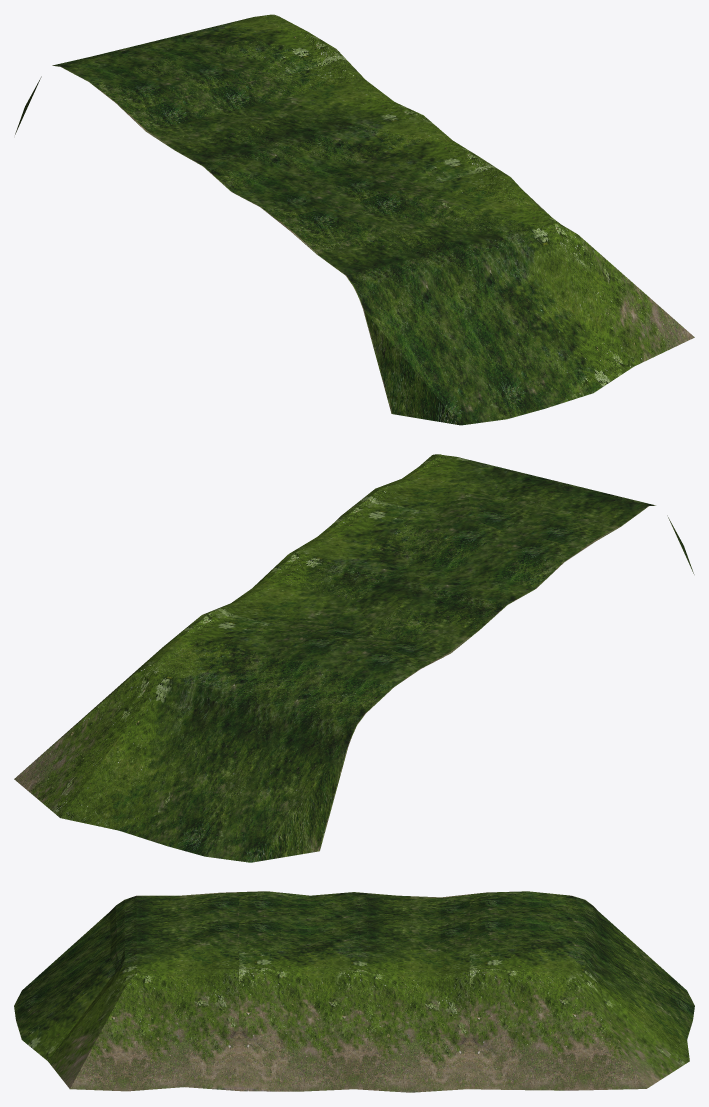
File: steepl.gltf
3 views of the same model, one above another, from view 1: azimuth 30°, elevation 25°; view 2: azimuth 150°, elevation 25°; view 3: azimuth 270°, elevation 25° (orthographic). The views are drawn at different scales.
Parts seen in each view (by area): view 1: steepl; view 2: steepl; view 3: steepl.
Part boxes in pixels (x1,y1,x2,y2): steepl: (15,14,694,425); steepl: (14,454,694,862); steepl: (14,891,694,1092).
Bounding box in the file's own units: 61.17 × 22.33 × 152.
1 material, 1 textured.
